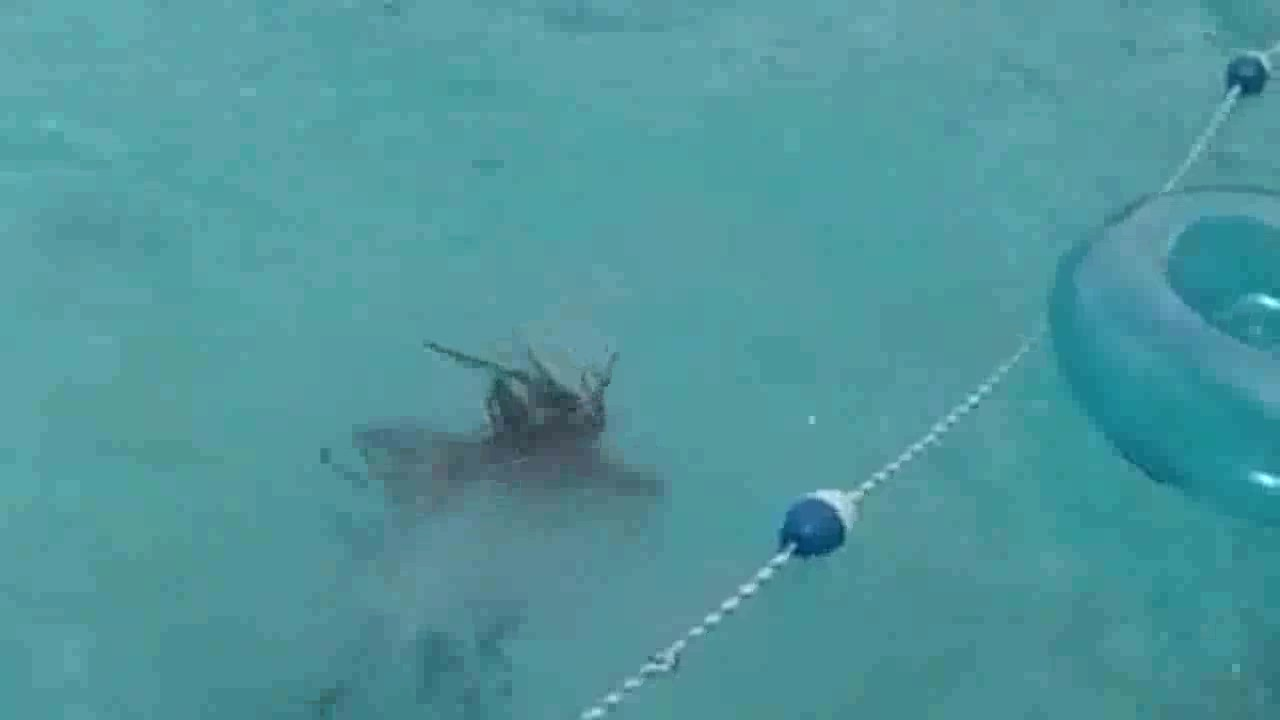Drowning: (312, 336, 683, 539)
